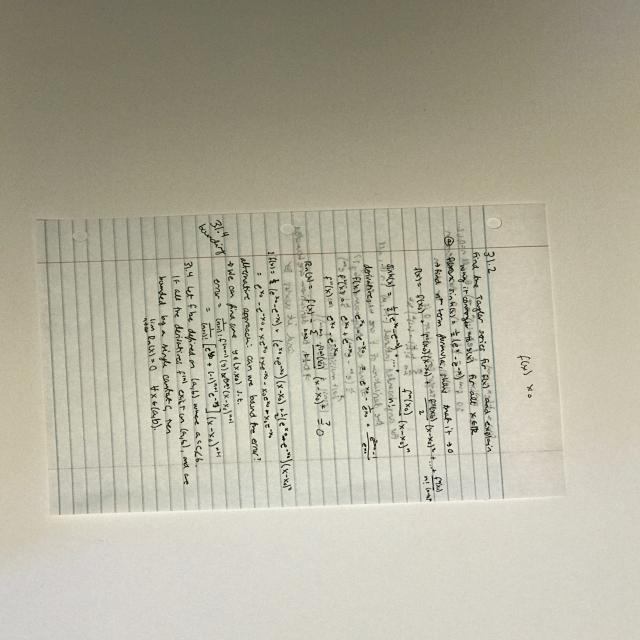paper: (35, 203, 567, 514)
